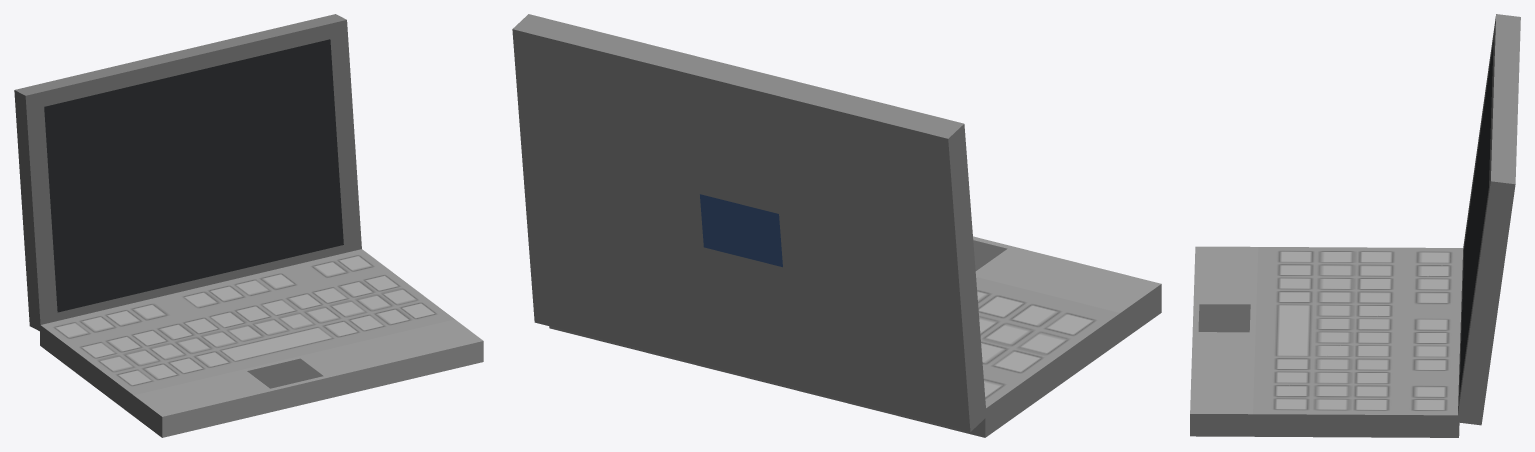
File: Laptop.FBX
3 renders of one model, left to right at view 1: azimuth 30°, elevation 25°; view 2: azimuth 150°, elevation 25°; view 3: azimuth 270°, elevation 25°, orthographic. The views are drawn at different scales.
Visible parts, largest first — view 1: SM_Laptop_01; view 2: SM_Laptop_01; view 3: SM_Laptop_01.
Boxes of the visible parts, x1,y1,x2,y2 form: SM_Laptop_01: (14, 14, 483, 437); SM_Laptop_01: (512, 14, 1161, 437); SM_Laptop_01: (1190, 14, 1520, 437).
Bounding box in the file's own units: 35.91 × 25.43 × 29.68.
